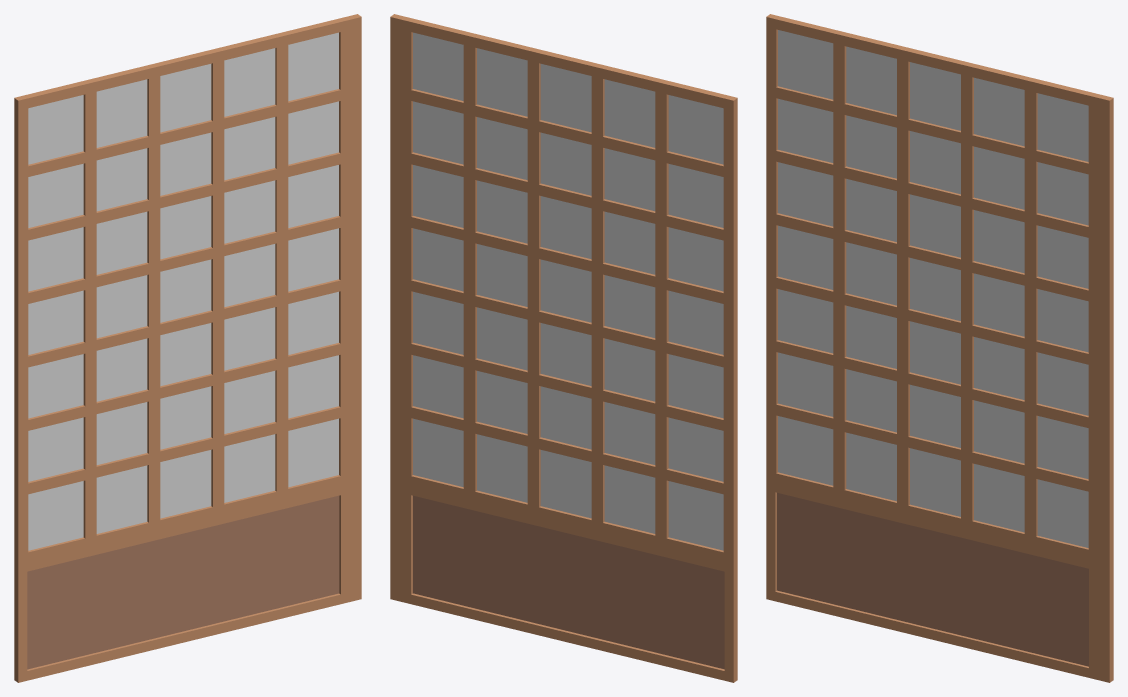
The model's file is Door2.fbx.
3 renders of one model, left to right at view 1: azimuth 30°, elevation 25°; view 2: azimuth 150°, elevation 25°; view 3: azimuth 330°, elevation 25°, orthographic.
Visible parts, largest first — view 1: Door2; view 2: Door2; view 3: Door2.
Part boxes in pixels (x1,y1,x2,y2): Door2: (14, 14, 361, 682); Door2: (390, 14, 737, 682); Door2: (766, 14, 1113, 682).
Bounding box in the file's own units: 354 × 573 × 7.15.
